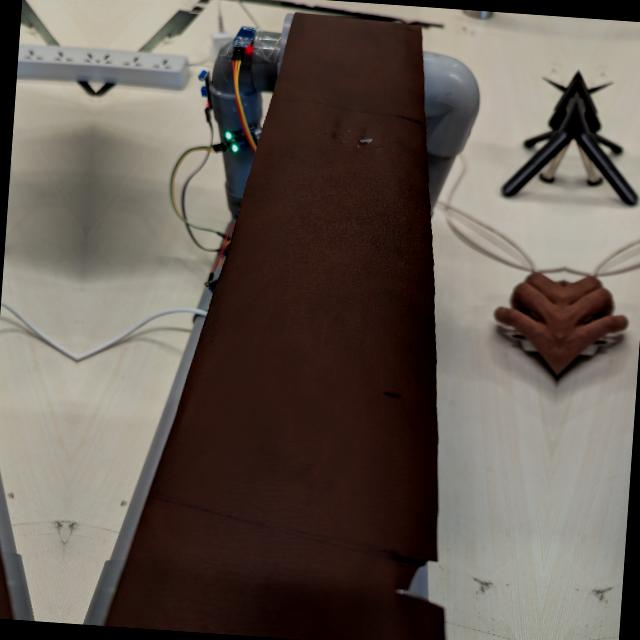belt_crack: (307, 108, 399, 158)
belt_tear: (383, 540, 470, 619), (614, 557, 624, 629)
